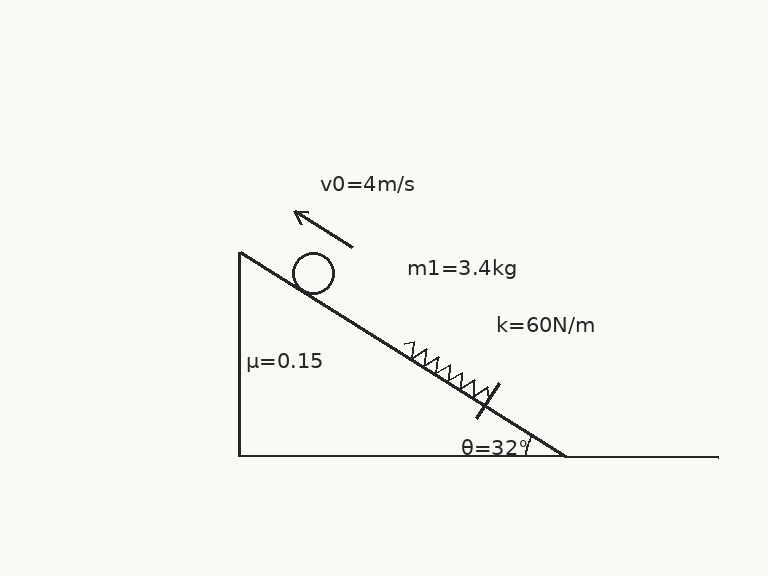ball: (290, 250, 336, 296)
ramp: (237, 249, 568, 458)
spring: (402, 340, 491, 399)
